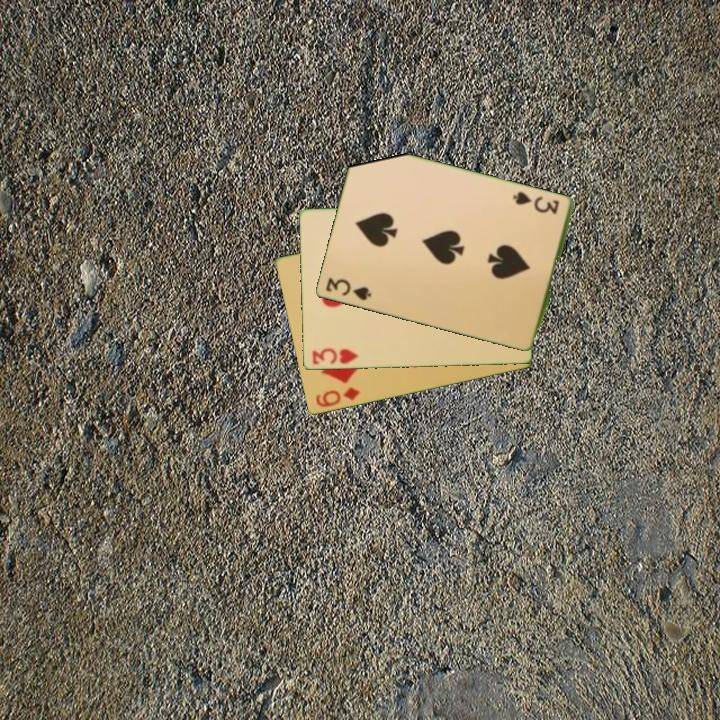3h: (308, 345, 360, 367)
3s: (322, 274, 374, 304), (511, 188, 562, 218)
6d: (312, 384, 363, 410)
